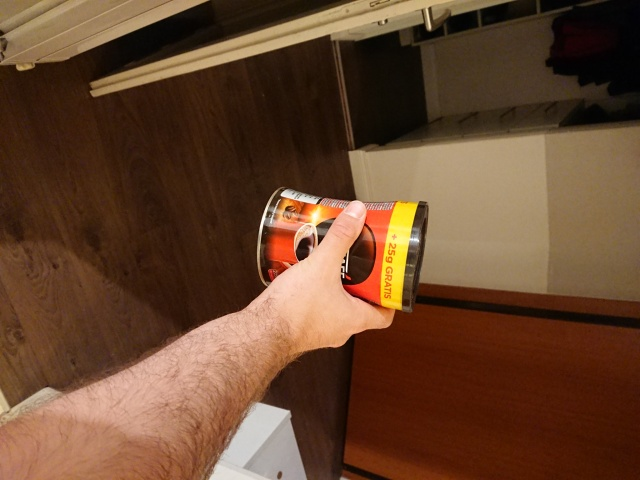Nescafe Classic 225g: (253, 183, 432, 318)
